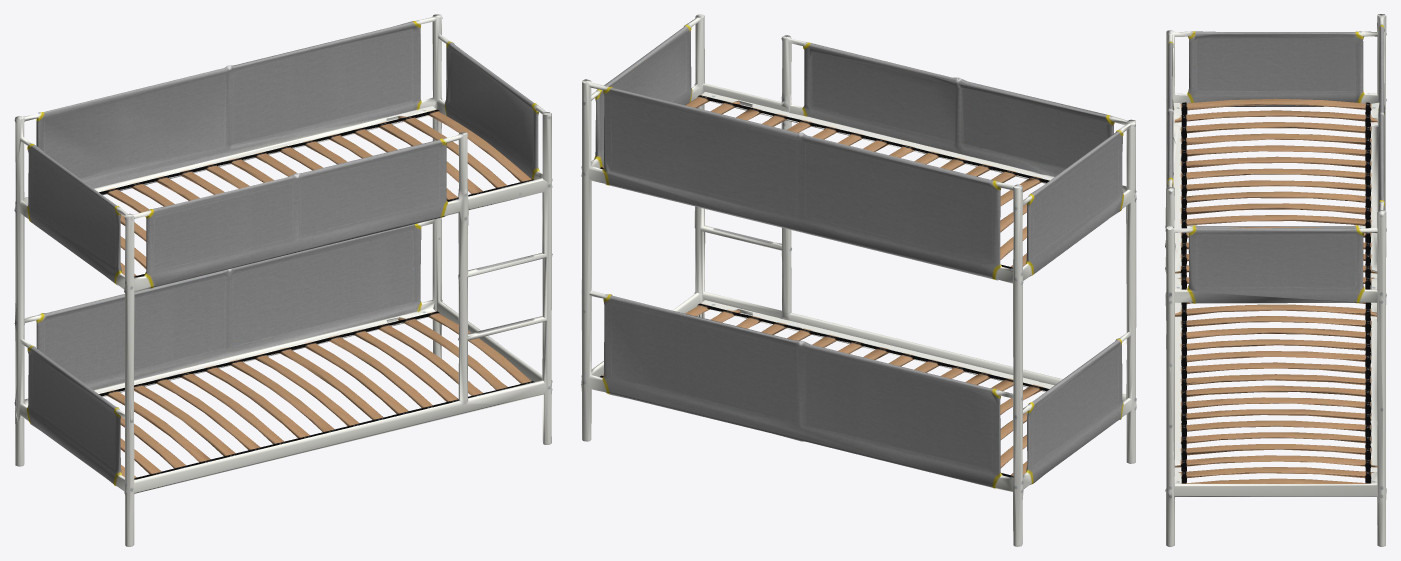
Rendered from vitval_rama_ozka_pietrowego_80411272.glb.
3 views of the same model, side by side, from view 1: azimuth 30°, elevation 25°; view 2: azimuth 150°, elevation 25°; view 3: azimuth 270°, elevation 25° (orthographic). The views are drawn at different scales.
Parts seen in each view (by area): view 1: vitval_rama_ozka_pietrowego_80411272; view 2: vitval_rama_ozka_pietrowego_80411272; view 3: vitval_rama_ozka_pietrowego_80411272.
Part boxes in pixels (<box>): vitval_rama_ozka_pietrowego_80411272: <box>14,14,552,546</box>; vitval_rama_ozka_pietrowego_80411272: <box>581,14,1136,546</box>; vitval_rama_ozka_pietrowego_80411272: <box>1165,14,1386,546</box>.
Size of the model in its own units: 2.08 by 1.62 by 0.9716.
1 material, 1 textured.
